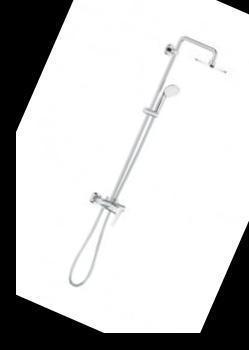Ducha: (52, 11, 247, 307)
